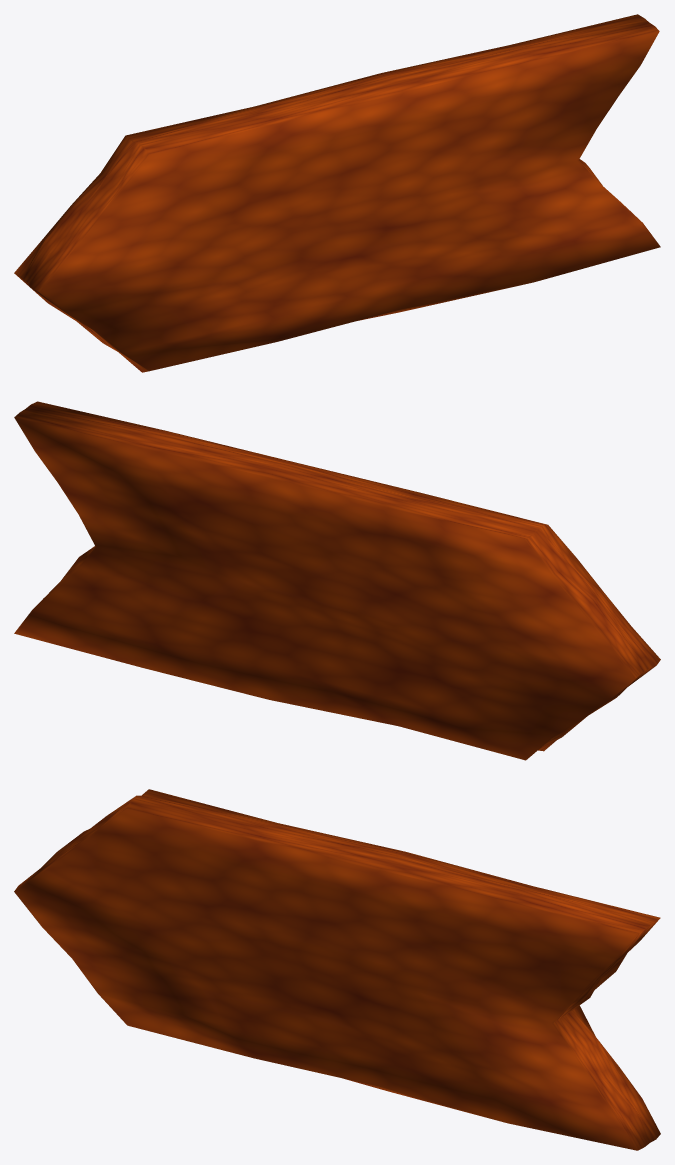
Rendered from Placa.fbx.
3 views of the same model, one above another, from view 1: azimuth 30°, elevation 25°; view 2: azimuth 150°, elevation 25°; view 3: azimuth 330°, elevation 25° (orthographic).
Parts seen in each view (by area): view 1: Circle.002; view 2: Circle.002; view 3: Circle.002.
Boxes of the visible parts, left/top/right/bottom form: Circle.002: left=14, top=14, right=660, bottom=372; Circle.002: left=14, top=401, right=660, bottom=760; Circle.002: left=14, top=789, right=660, bottom=1150.
Size of the model in its own units: 1207 by 424 by 102.
Materials: 1 (1 with a texture image).
